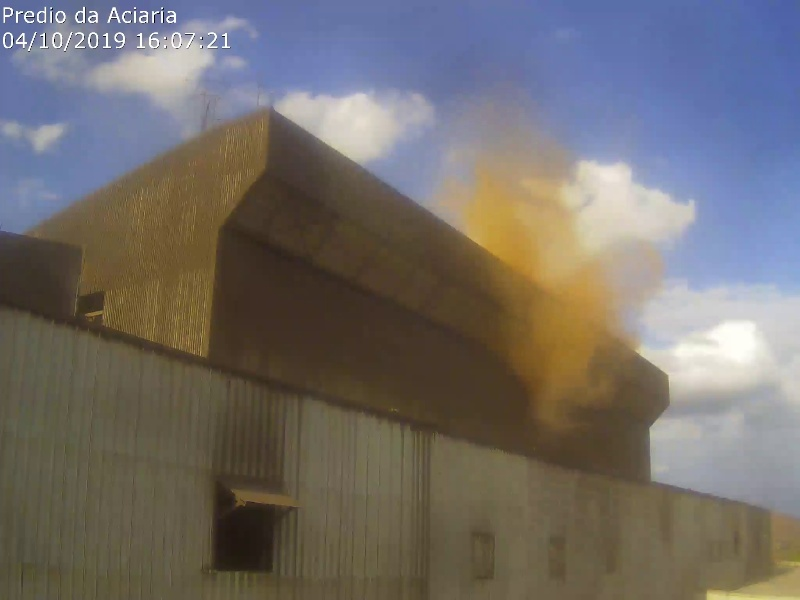bom: (1, 2, 327, 164), (353, 3, 800, 82)
pessimo: (461, 172, 681, 438)
ruim: (433, 81, 578, 170)
